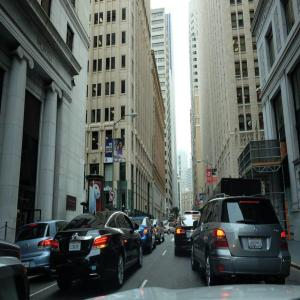Vehicle-registration-plate: (249, 237, 264, 249), (70, 242, 83, 252), (23, 261, 31, 268)
